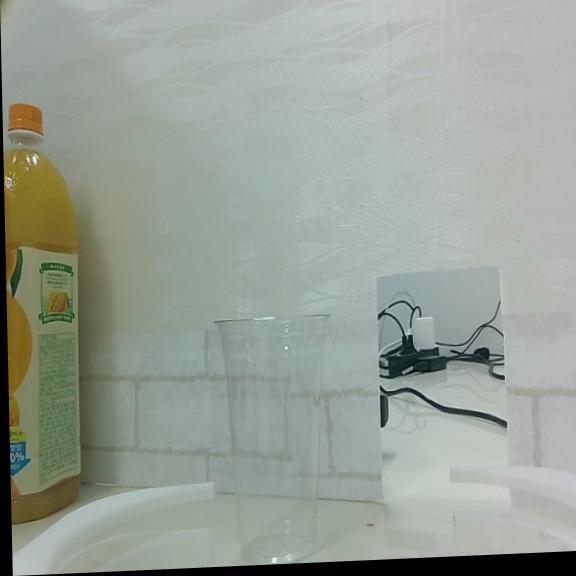Plastik: (217, 316, 328, 564)
